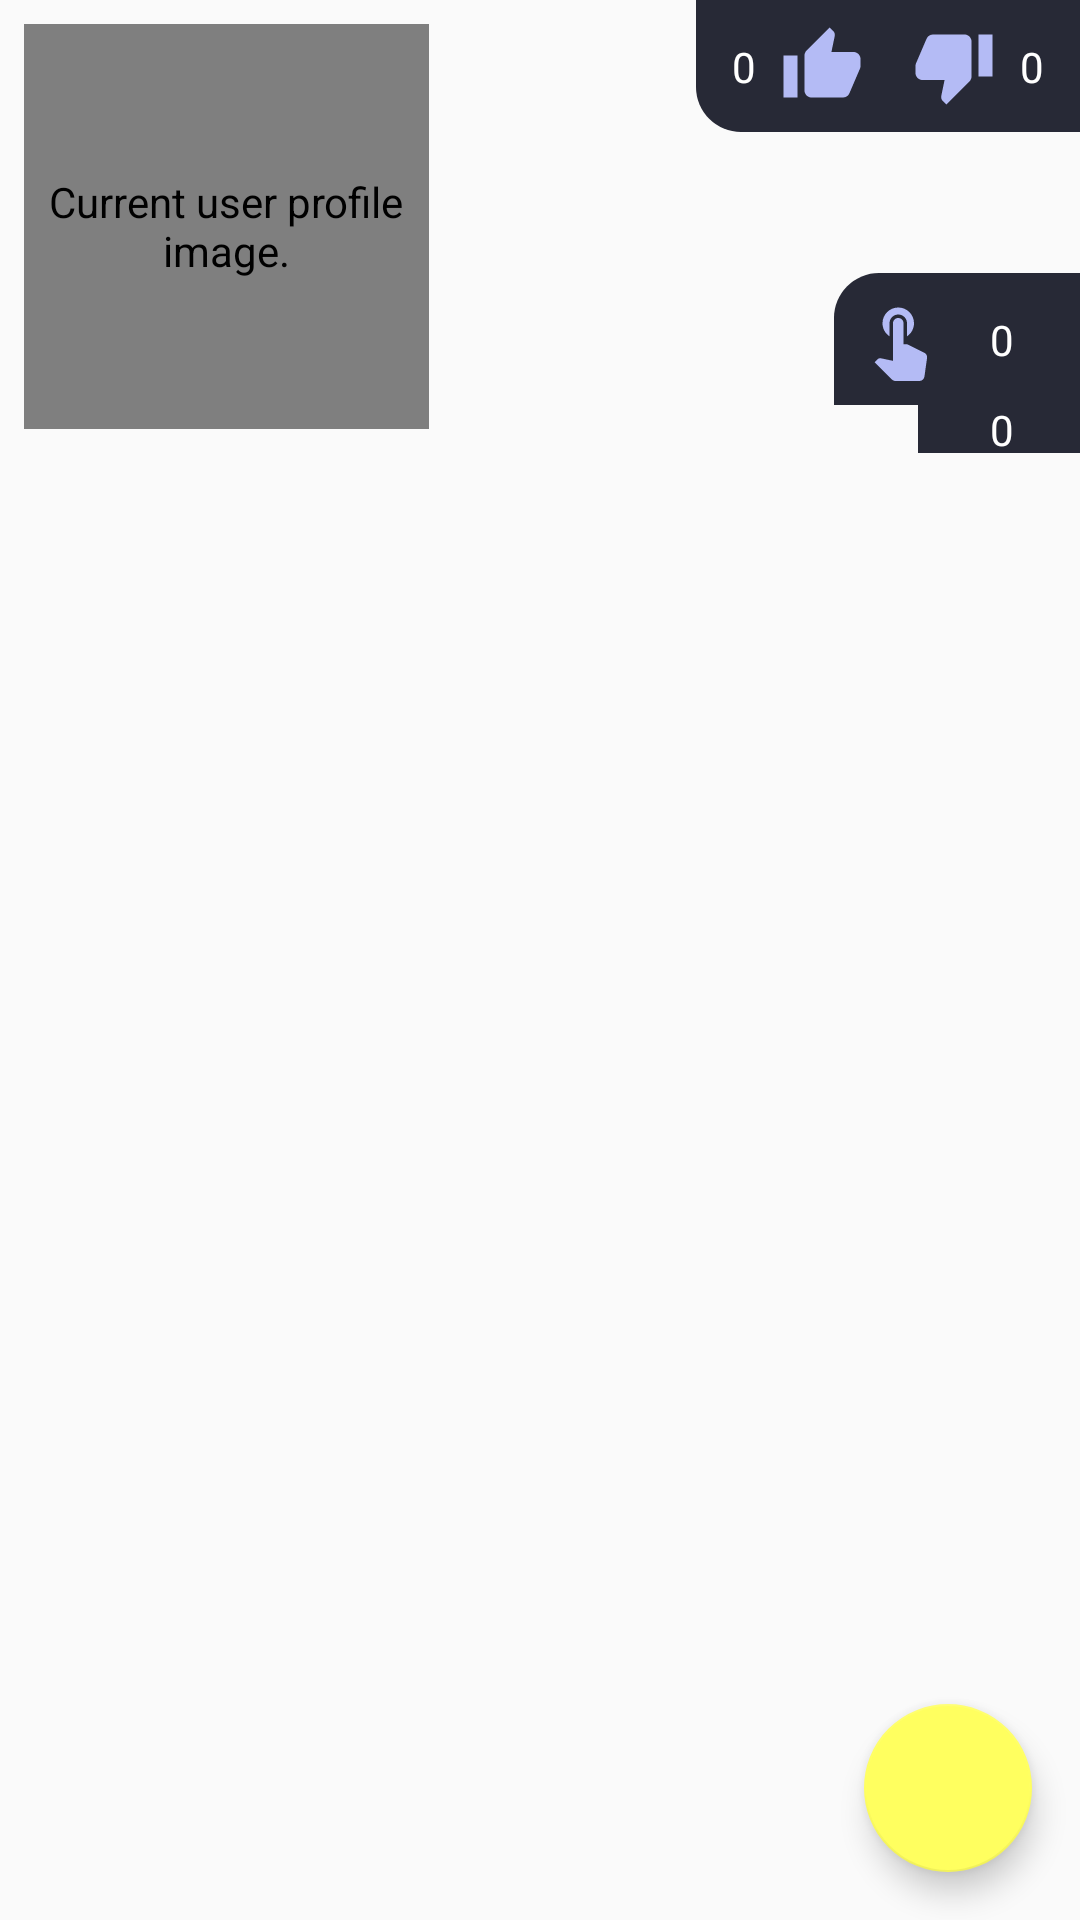

Icon click points for this 1080 × 1920 phone screenshot, format (x,y):
Dislikes count icon: (954,69)
Like count icon: (822,62)
Vote count icon: (900,339)
